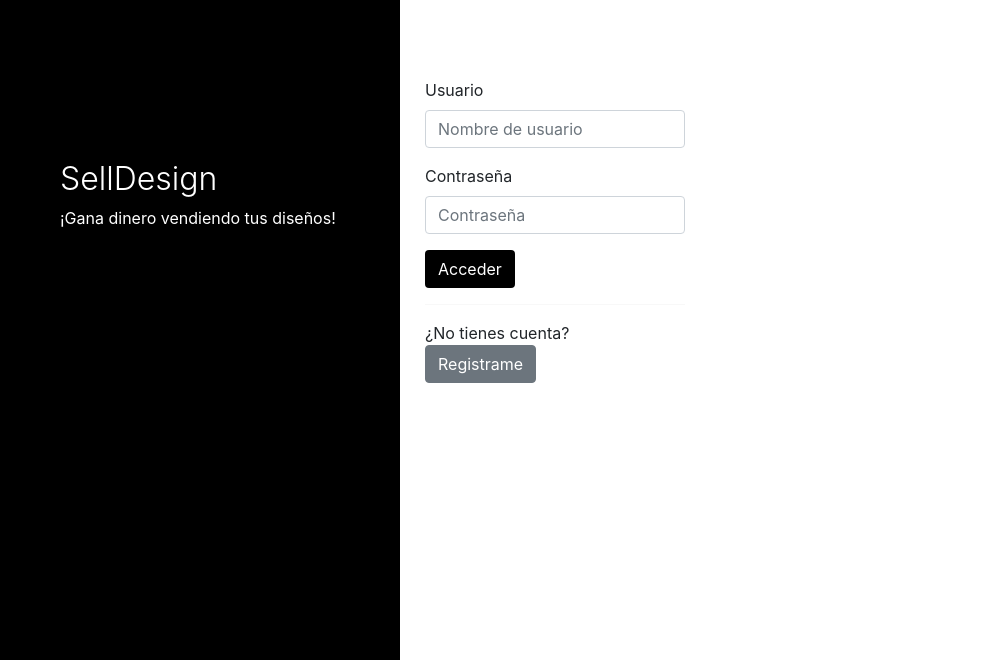
Test case: LogginComponent › No deja Acceder sin campos
What coordinates should you click on to do the following:
click the button with class "btn-black"
I would click on:
 (470, 269)
Its box is [425, 250, 515, 288].
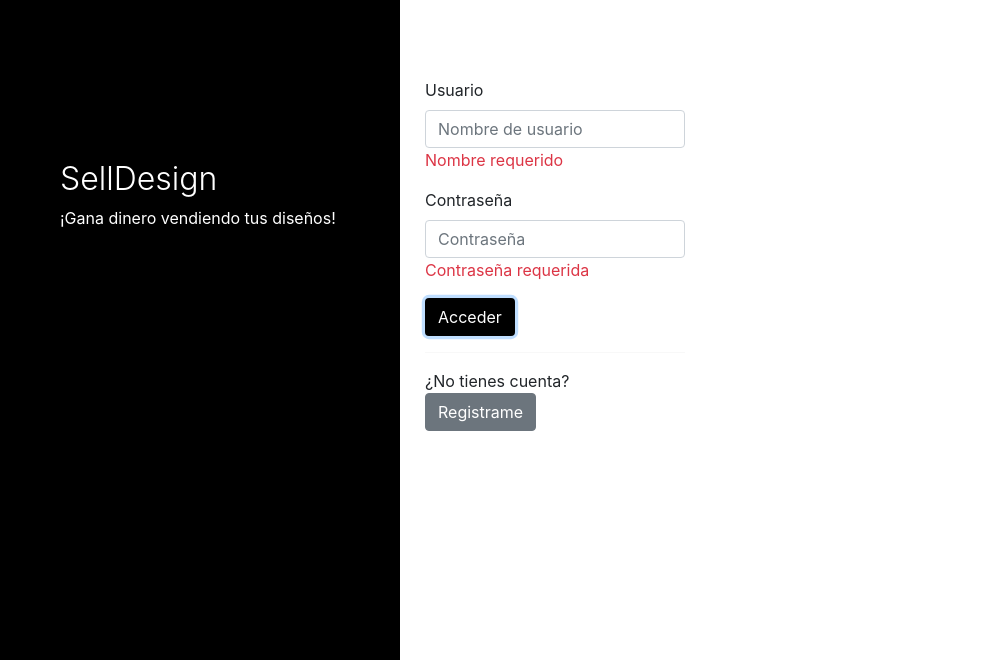
Expected: the text "Nombre requerido" is shown, [425, 150, 563, 170]
Expected: the text "Contraseña requerida" is shown, [425, 260, 589, 280]
